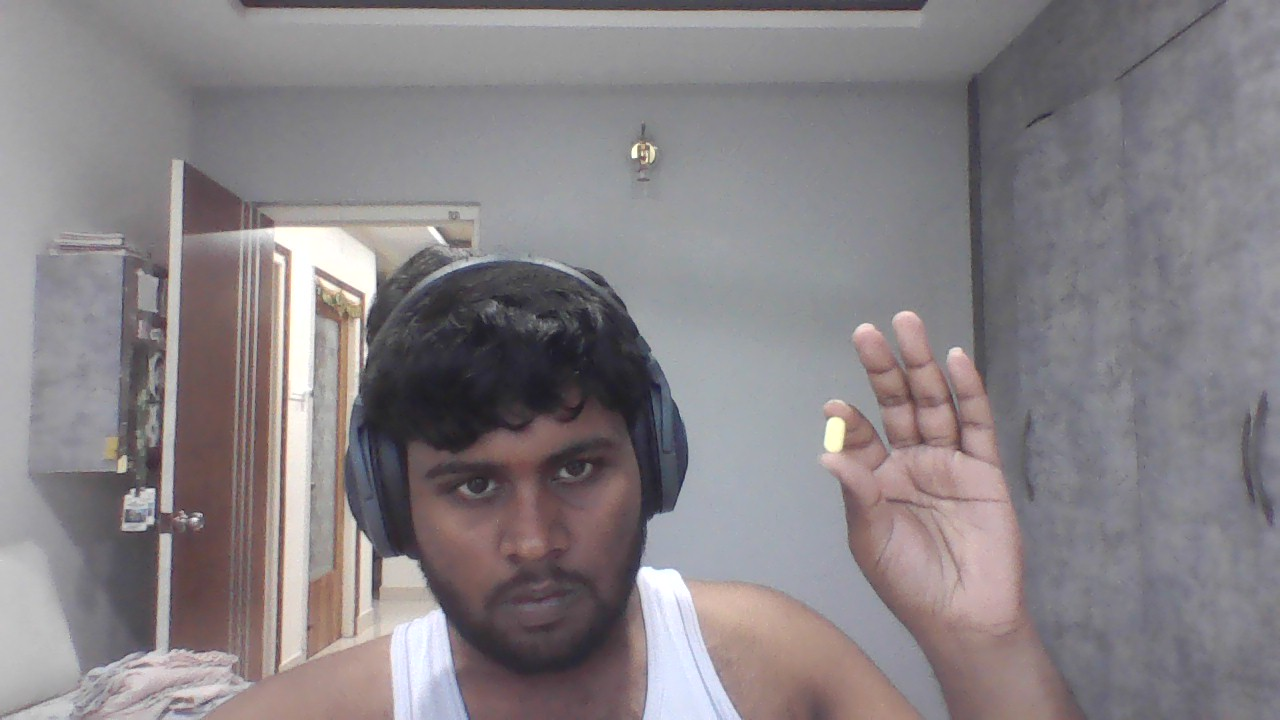Norflox TZ: (812, 409, 851, 453)
